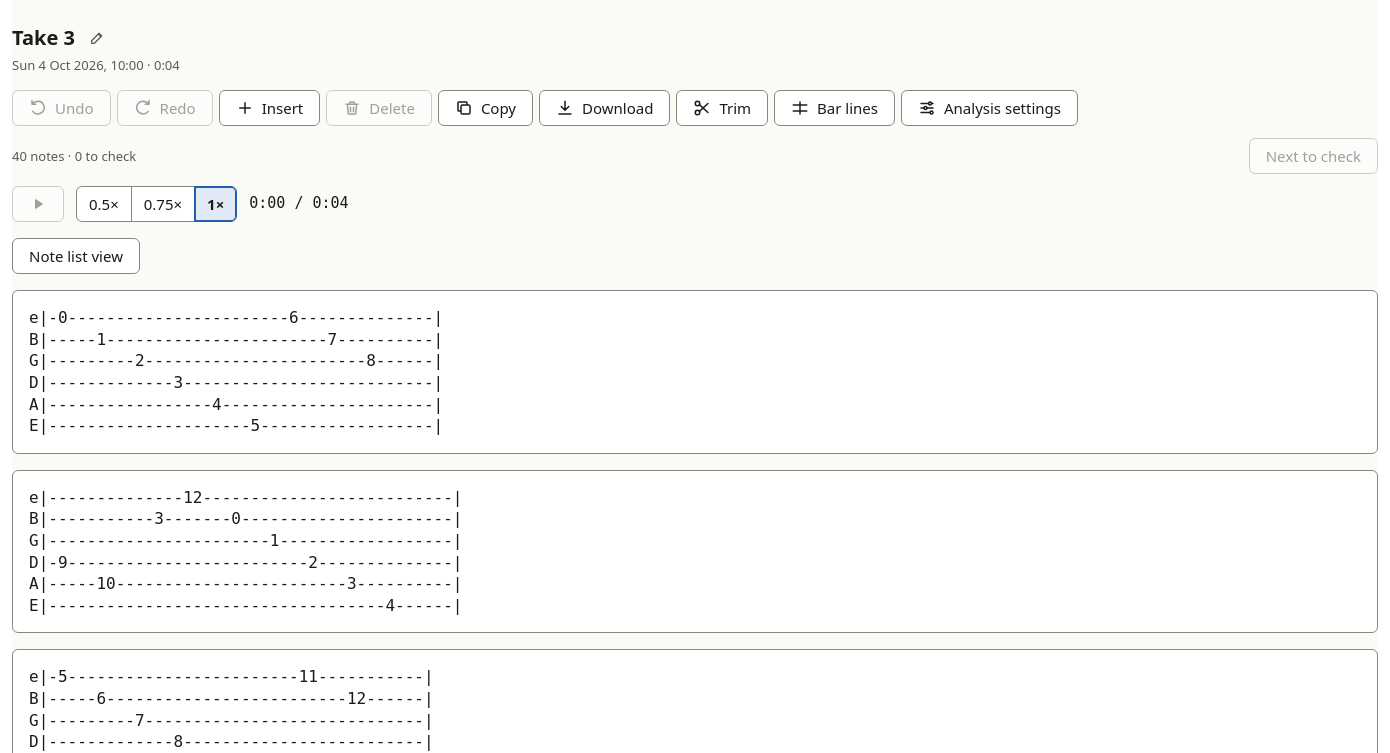
Test case: Tab screen tab area, header and selection › toolbar roving Tab stop › with a count-in take (Bar lines shown) › Bar lines removed while the stop: the stop moves to the nearest enabled button
The width and height of the screenshot is (1390, 753).
Click the button "Bar lines": coordinates (835, 108) [774,90,895,126]
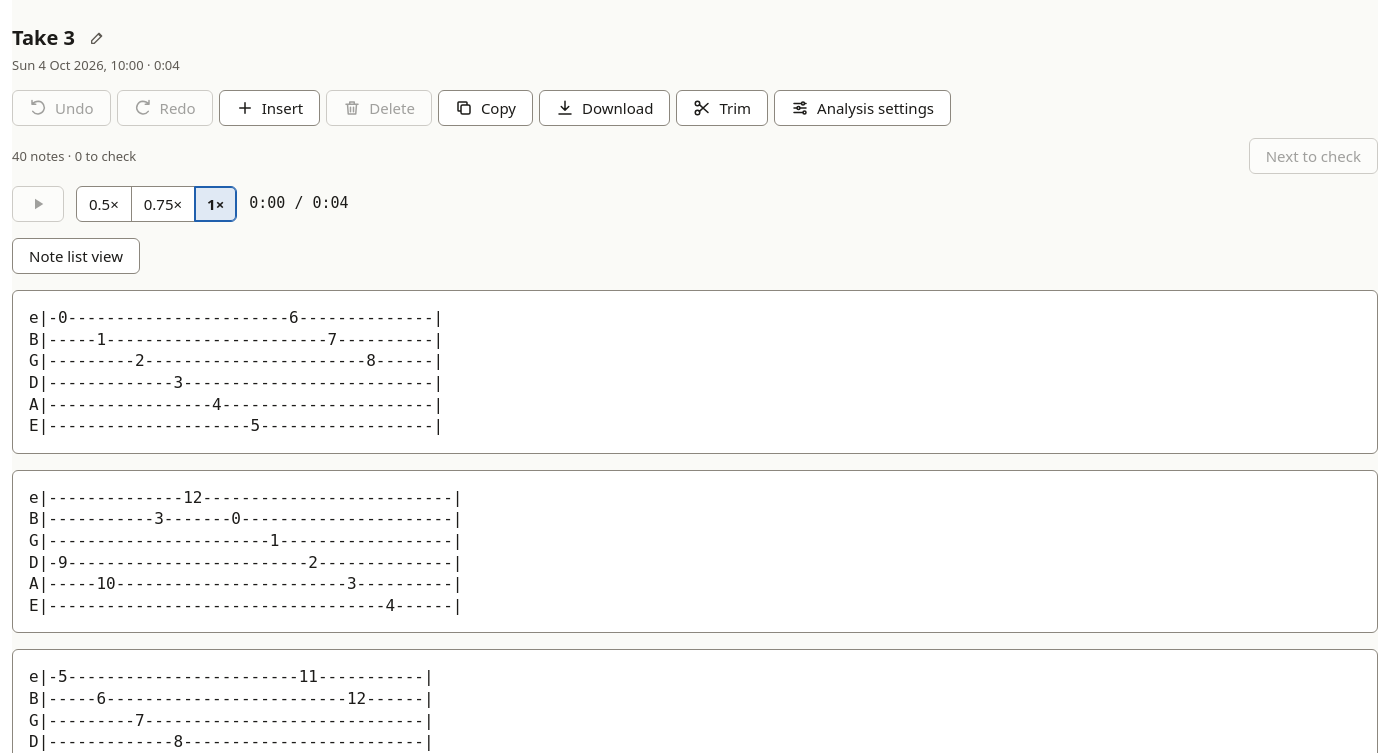
Check: the button "Bar lines" is gone
